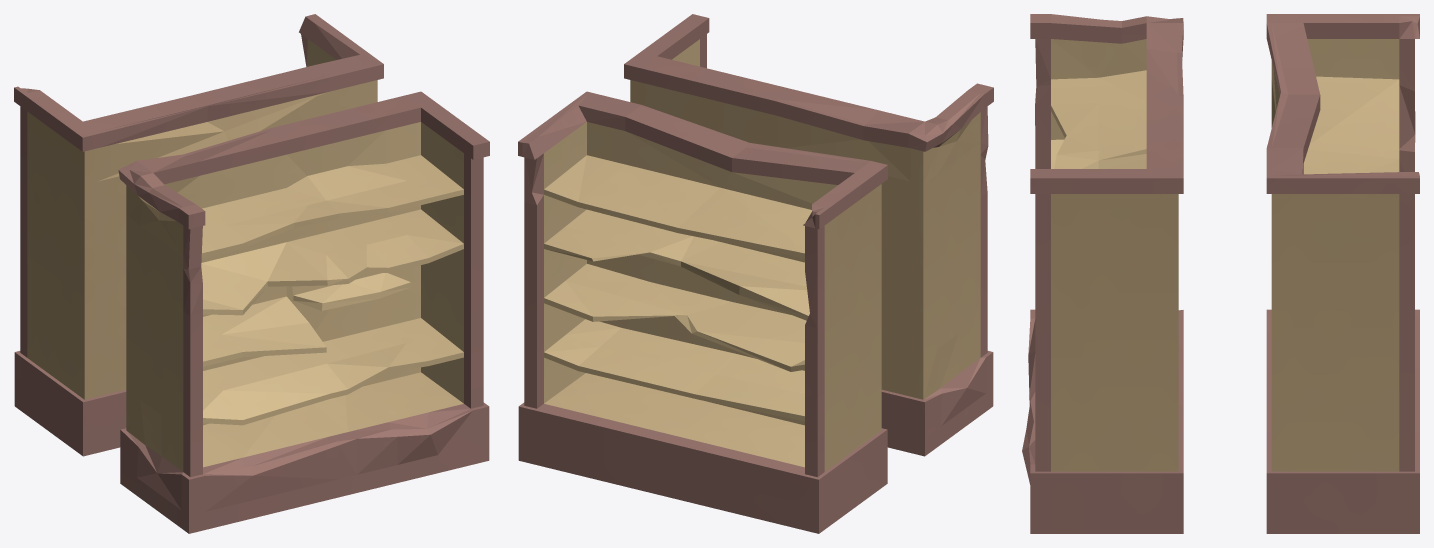
Rendered from shelf_3_C.obj.
The picture shows the model from 3 angles, left to right: view 1: azimuth 30°, elevation 25°; view 2: azimuth 150°, elevation 25°; view 3: azimuth 270°, elevation 25°; orthographic projection. The views are drawn at different scales.
Parts seen in each view (by area): view 1: shelf_3_C_Mesh; view 2: shelf_3_C_Mesh; view 3: shelf_3_C_Mesh.
Part boxes in pixels (box(x1,y1,x2,y2)): shelf_3_C_Mesh: box(14, 14, 489, 533); shelf_3_C_Mesh: box(518, 14, 993, 533); shelf_3_C_Mesh: box(1022, 14, 1419, 533).
Size of the model in its own units: 1.21 by 1.22 by 1.23.
